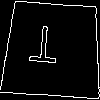T: (28, 24, 60, 73)
